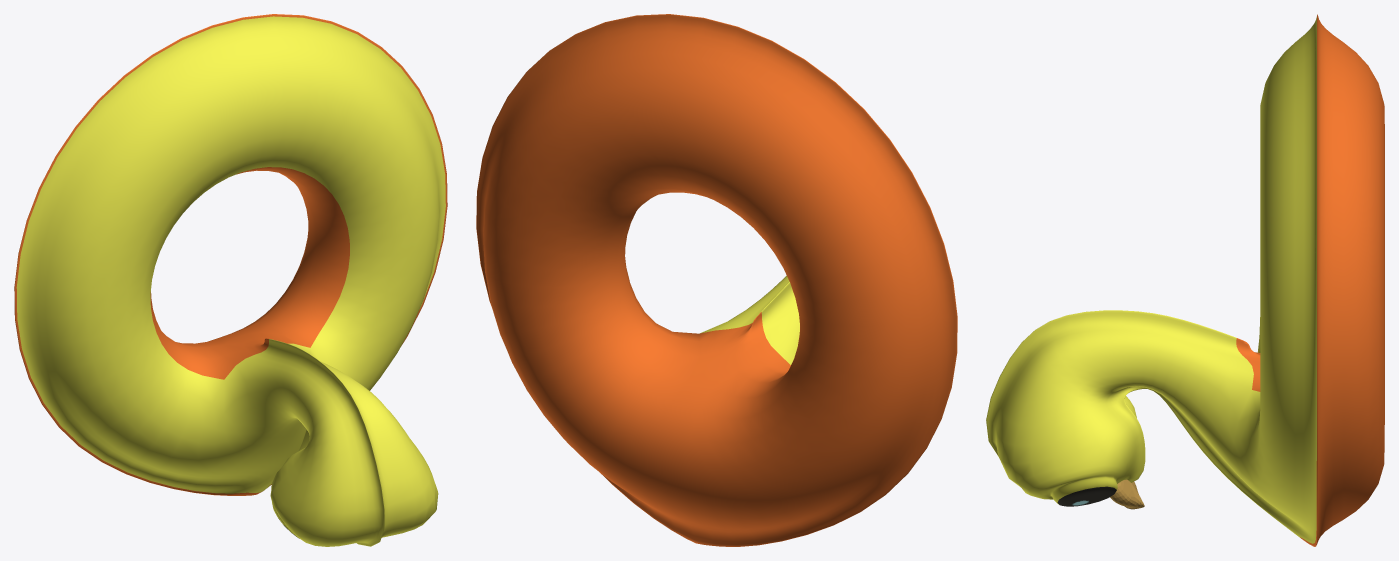
Rendered from floaty bird yellow.fbx.
The picture shows the model from 3 angles, left to right: view 1: azimuth 30°, elevation 25°; view 2: azimuth 150°, elevation 25°; view 3: azimuth 270°, elevation 25°; orthographic projection. The views are drawn at different scales.
Parts seen in each view (by area): view 1: BIRD; view 2: BIRD; view 3: BIRD, beak.
Part boxes in pixels (x1,y1,x2,y2): BIRD: (14,14,447,546); BIRD: (476,14,957,546); BIRD: (986,14,1384,546); beak: (1110,479,1144,509).
Size of the model in its own units: 307 by 323 by 236.
